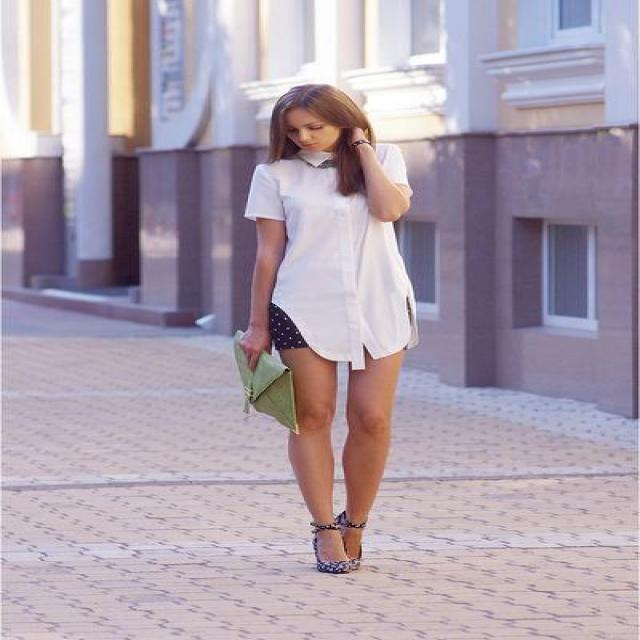bag: (264, 371, 304, 401)
dress: (243, 143, 416, 370)
shoe: (310, 540, 360, 573)
shorts: (264, 329, 307, 355)
